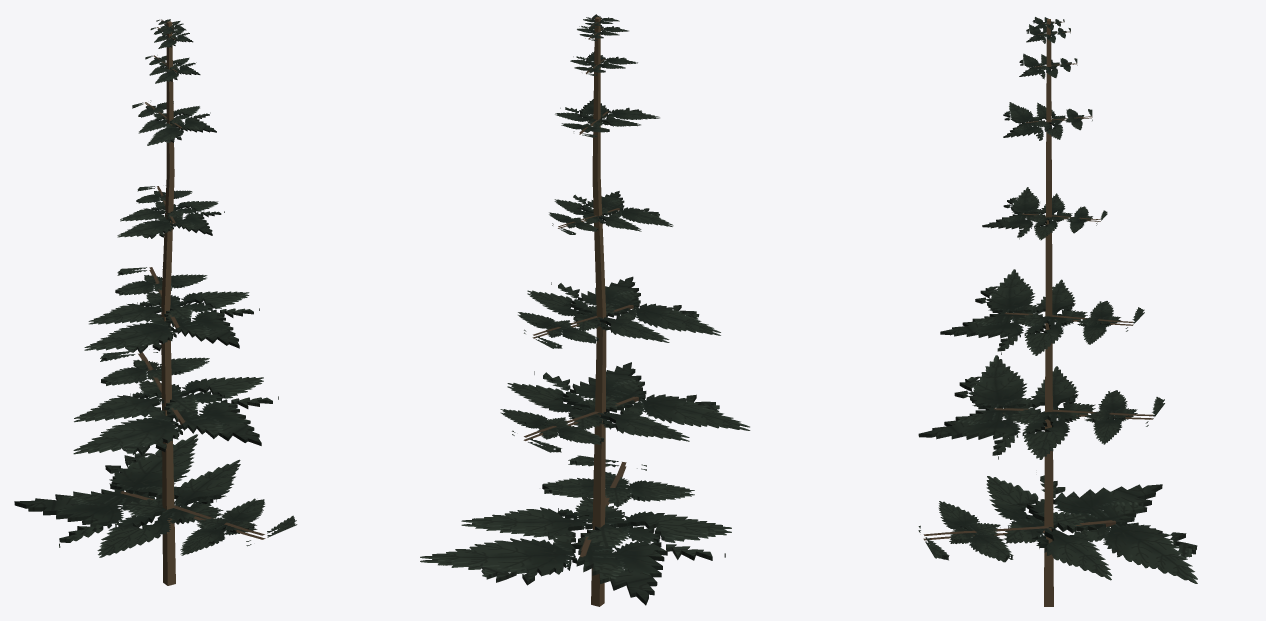
Rendered from nettle.fbx.
3 views of the same model, side by side, from view 1: azimuth 30°, elevation 25°; view 2: azimuth 150°, elevation 25°; view 3: azimuth 270°, elevation 25° (orthographic). The views are drawn at different scales.
Visible parts, largest first — view 1: nettle; view 2: nettle; view 3: nettle.
Part boxes in pixels (<box>): nettle: <box>14,19,297,585</box>; nettle: <box>420,14,750,606</box>; nettle: <box>918,17,1197,606</box>.
Size of the model in its own units: 376 by 606 by 357.
